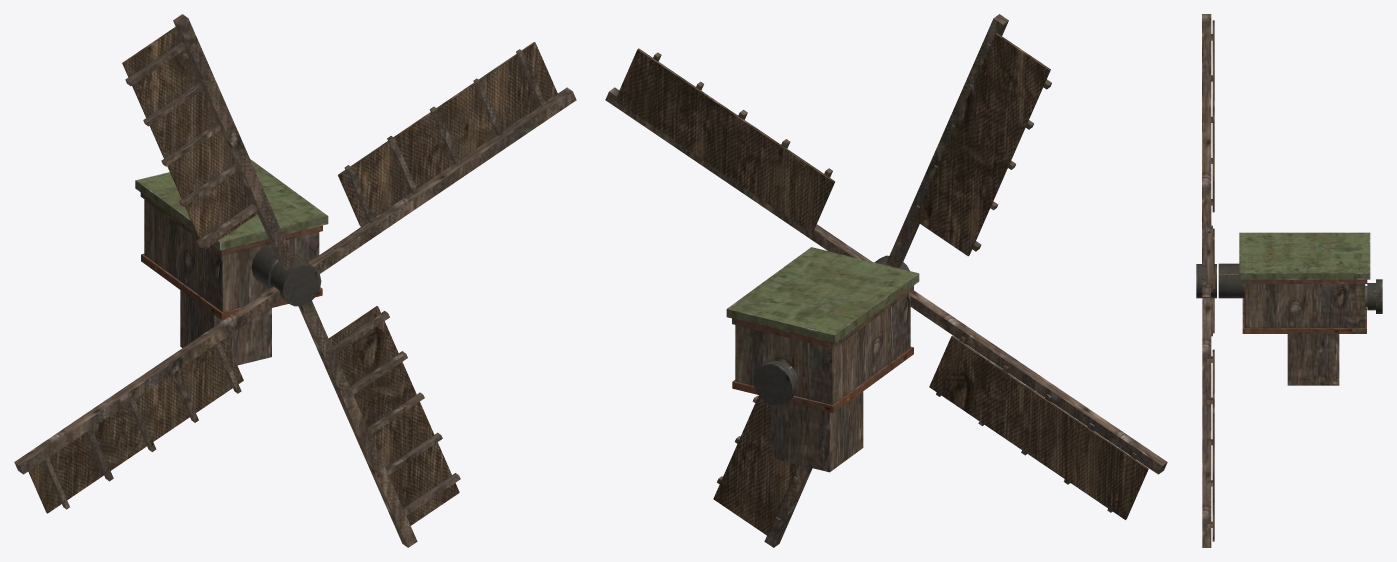
File: feWindmill.glb
3 views of the same model, side by side, from view 1: azimuth 30°, elevation 25°; view 2: azimuth 150°, elevation 25°; view 3: azimuth 270°, elevation 25° (orthographic). The views are drawn at different scales.
Parts seen in each view (by area): view 1: FeSpin_WindSails, feWindmill_Base; view 2: FeSpin_WindSails, feWindmill_Base, FeSpin_Shaft; view 3: feWindmill_Base, FeSpin_WindSails, FeSpin_Shaft.
Boxes of the visible parts, x1,y1,x2,y2 form: FeSpin_WindSails: (14, 14, 576, 547); feWindmill_Base: (135, 159, 328, 365); FeSpin_WindSails: (605, 14, 1167, 547); feWindmill_Base: (726, 247, 919, 472); FeSpin_Shaft: (753, 360, 797, 405); feWindmill_Base: (1218, 232, 1370, 385); FeSpin_WindSails: (1196, 14, 1216, 547); FeSpin_Shaft: (1365, 279, 1382, 313).
Size of the model in its own units: 2.88 by 2.89 by 1.08.
1 material, 1 textured.
